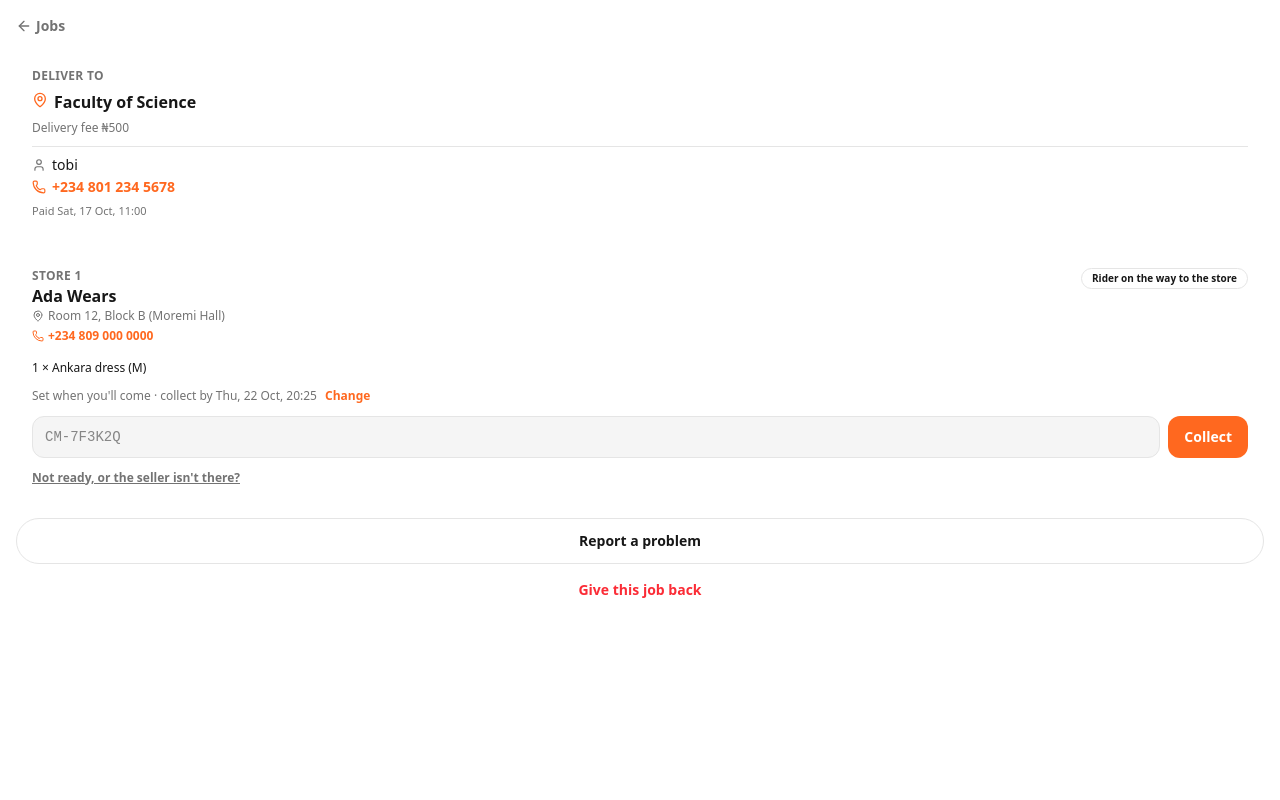
Test: RiderJobPage › at the store: enter the CM- code; at the buyer: their 3-digit code (DX5, DL5)
Expected: the text "Room 12, Block B (Moremi Hall)" is shown, [32, 308, 225, 324]
Expected: the link "+234 801 234 5678" is shown, [32, 177, 175, 196]
Type "cm-zzzzzz" into the field named "Store's order code".
click(596, 436); type("cm-zzzzzz")  # box [32, 416, 1160, 458]
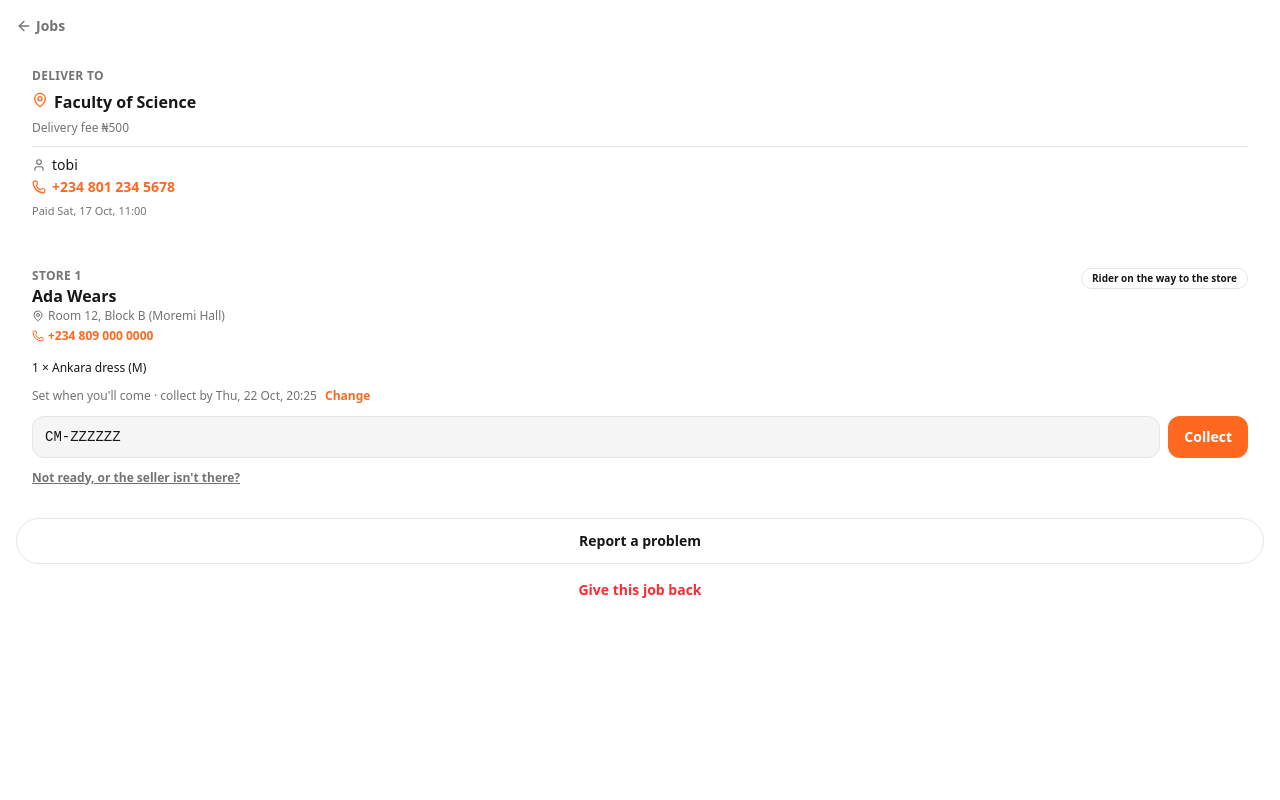
Click the button "Collect".
click(1208, 436)  # box [1168, 416, 1248, 458]
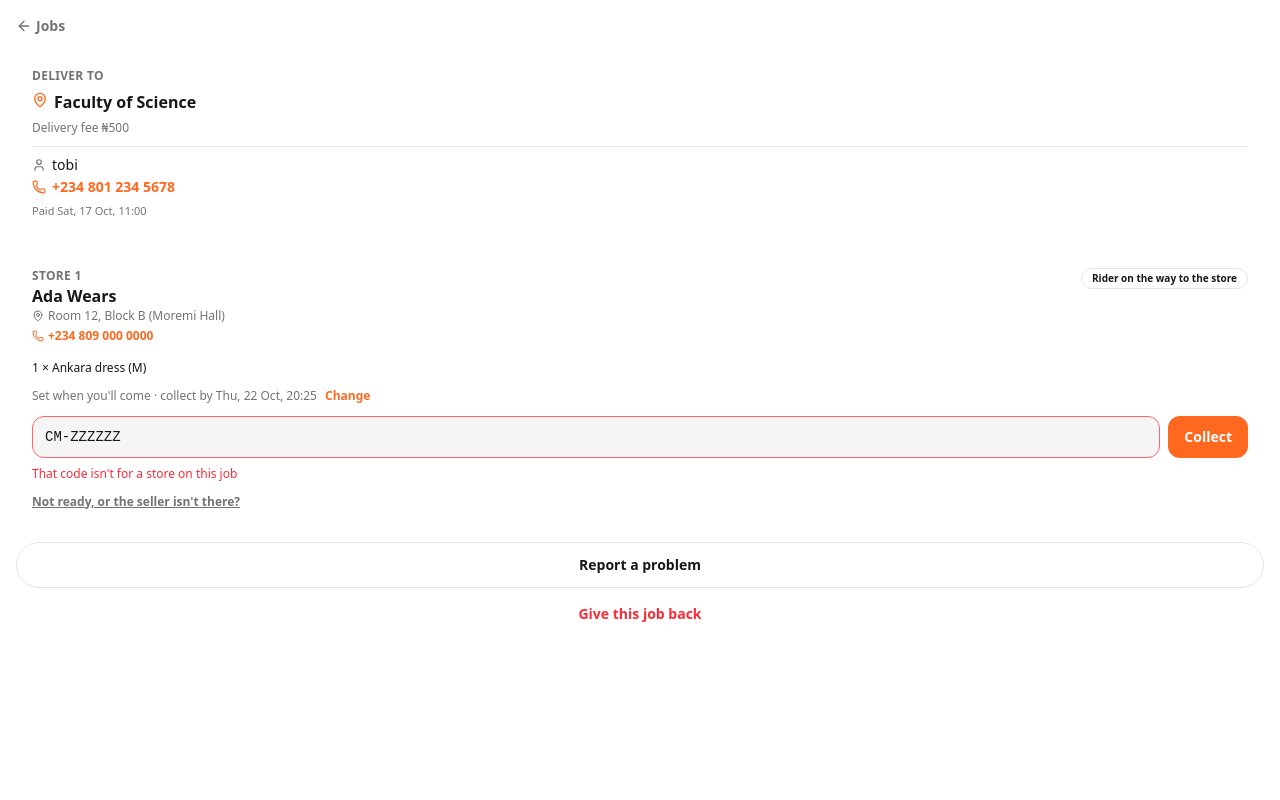
Result: the text "That code isn't for a store on this job" is shown at [32, 464, 237, 482]
Replace the text in the field named "Store's order code" with "CM-7F3K2Q" at (596, 436), box [32, 416, 1160, 458]
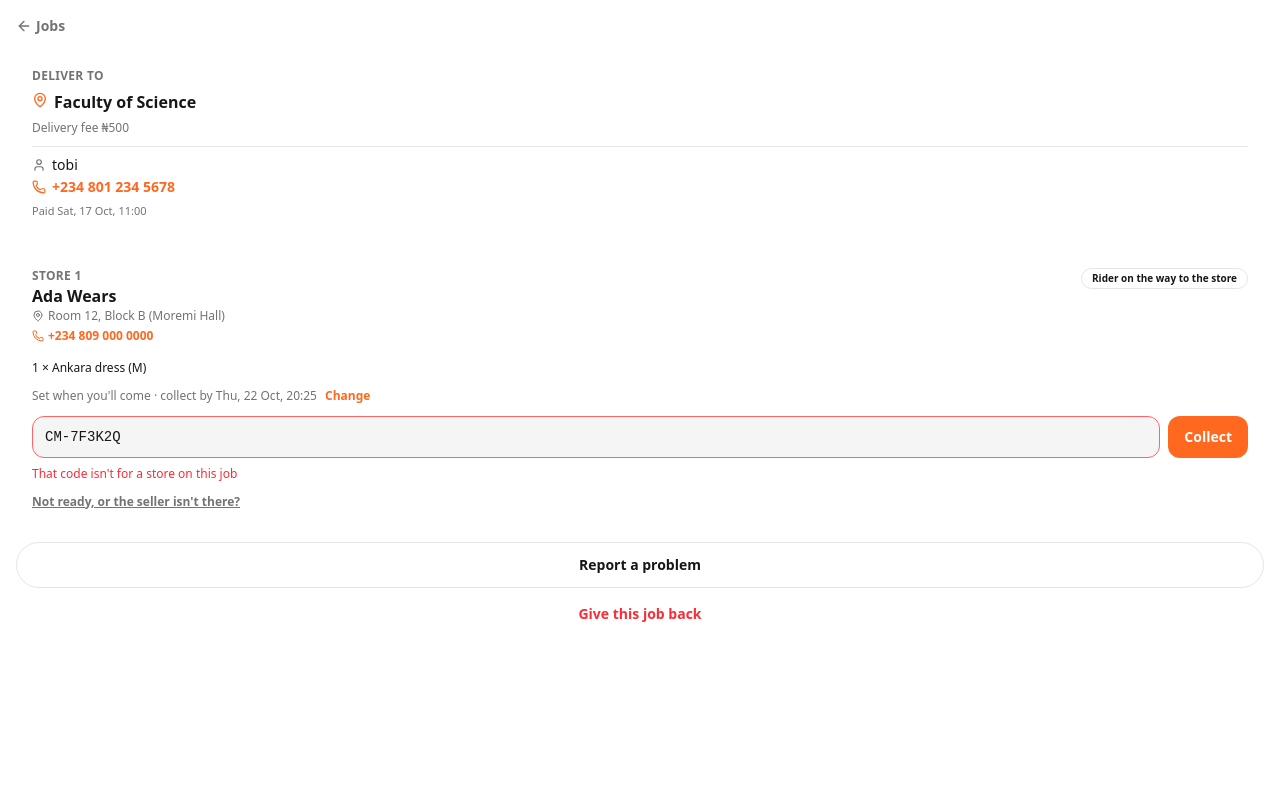
Click the button "Collect".
click(1208, 436)  # box [1168, 416, 1248, 458]
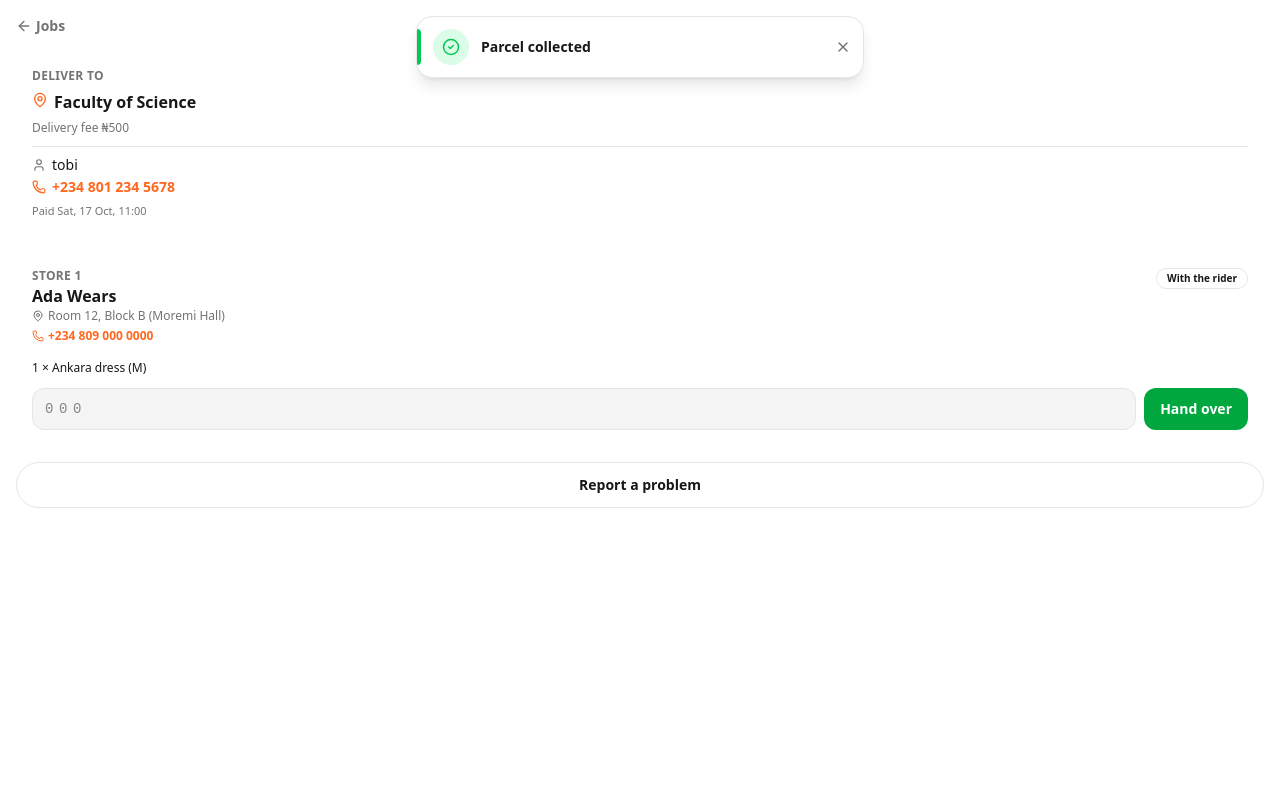
Type "048" into the field named "Buyer's code for Ada Wears".
click(584, 408); type("048")  # box [32, 388, 1136, 430]
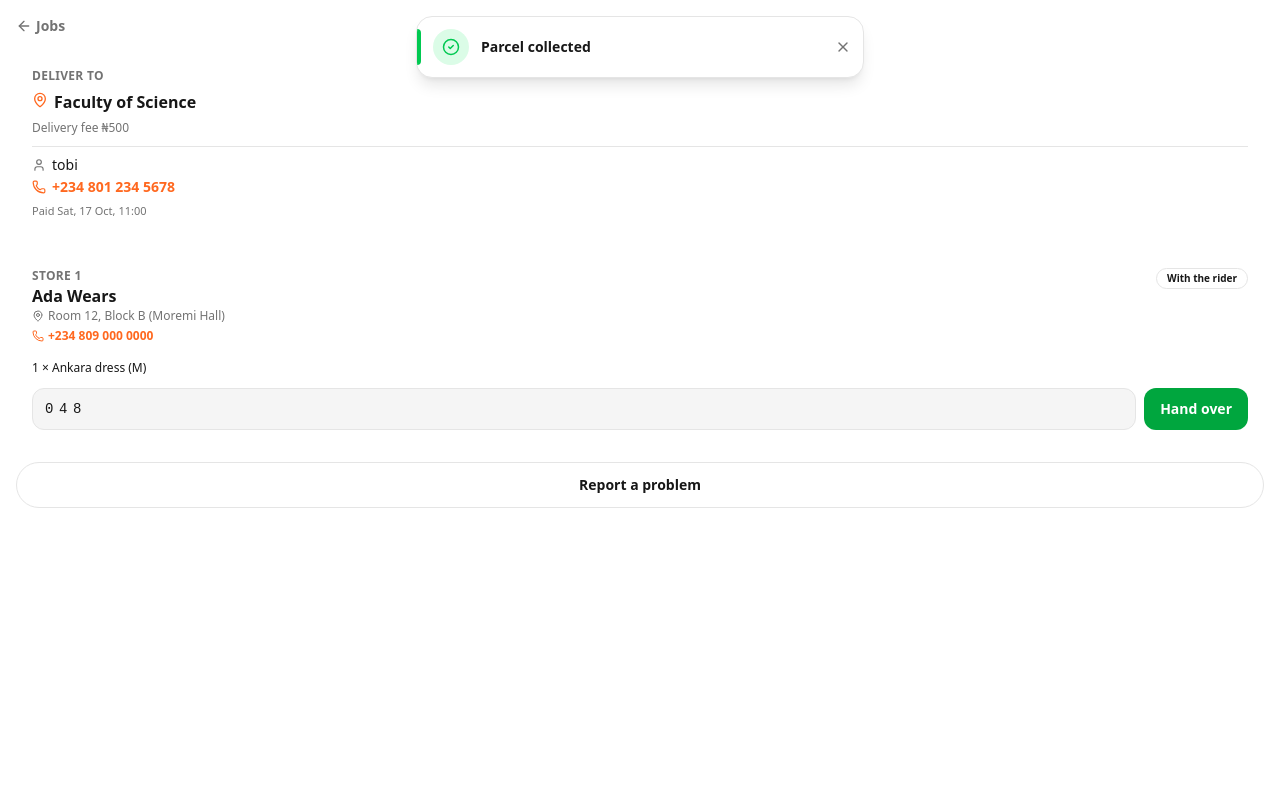
Click the button "Hand over".
click(1196, 408)  # box [1144, 388, 1248, 430]
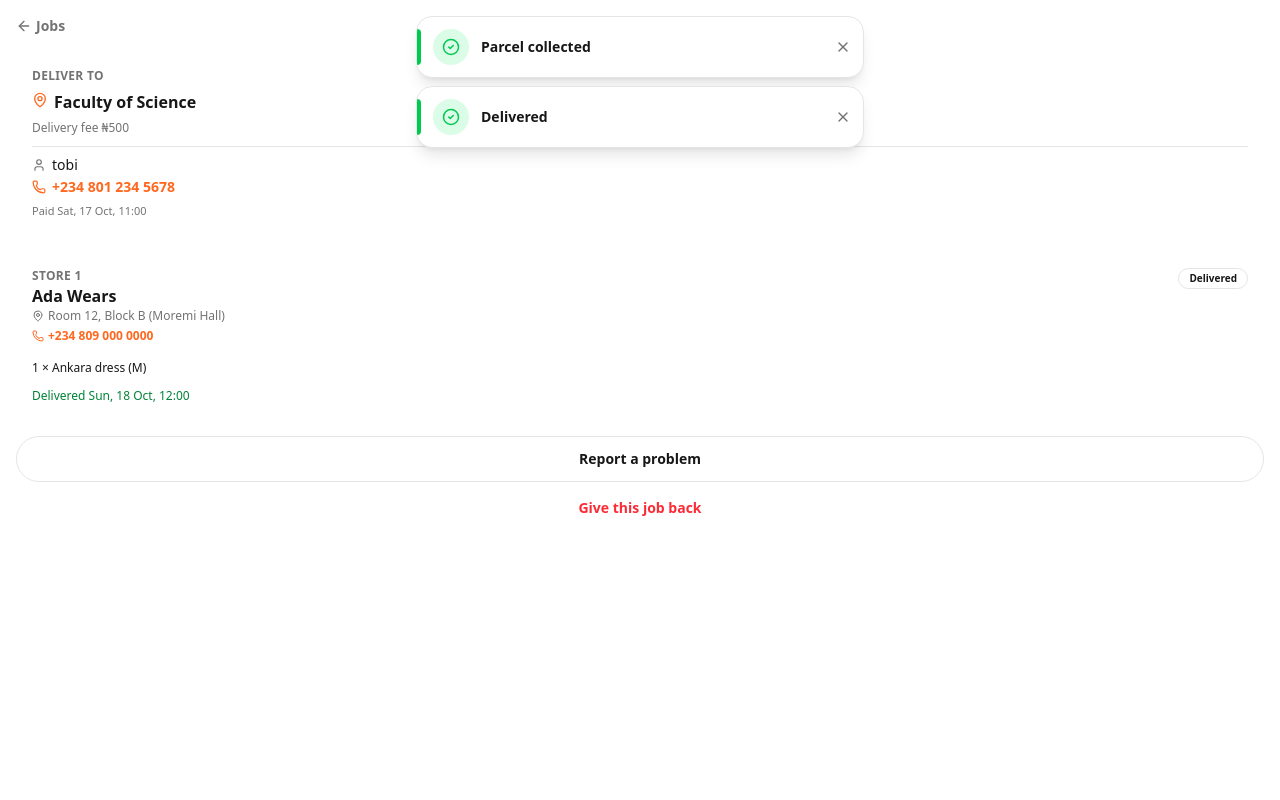
Result: the text "Delivered Sun, 18 Oct, 12:00" is shown at [32, 386, 190, 404]
